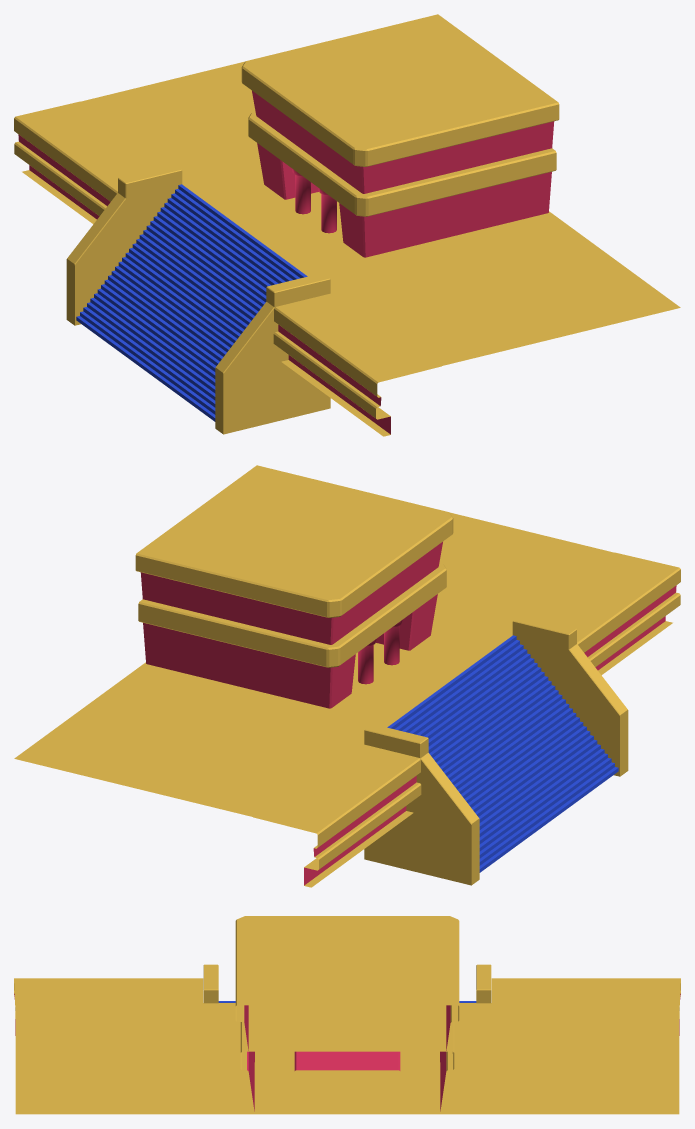
File: mod_temple_SUBS.fbx
3 renders of one model, top to bottom at view 1: azimuth 30°, elevation 25°; view 2: azimuth 150°, elevation 25°; view 3: azimuth 270°, elevation 25°, orthographic. The views are drawn at different scales.
Parts seen in each view (by area): view 1: Plane; view 2: Plane; view 3: Plane.
Boxes of the visible parts, x1=… form: Plane: x1=14, y1=14, x2=680, y2=436; Plane: x1=14, y1=465, x2=680, y2=887; Plane: x1=14, y1=916, x2=680, y2=1114.
Bounding box in the file's own units: 702 × 439 × 1243.
